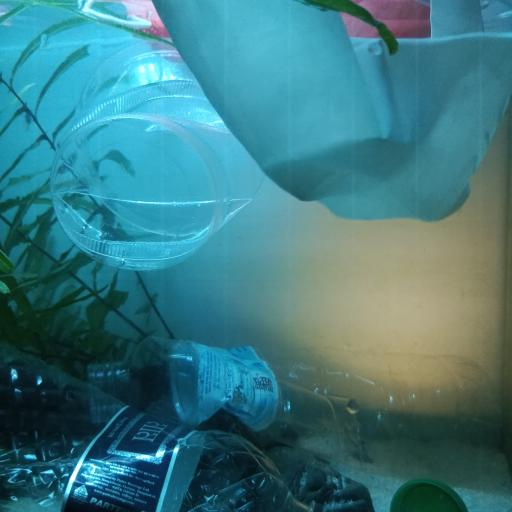bottle_cap: (387, 478, 467, 512)
glove: (150, 0, 512, 220)
mask: (79, 0, 433, 44)
plastic_bottle: (90, 334, 495, 478), (1, 340, 336, 512)
plastic_cup: (47, 40, 268, 270)
